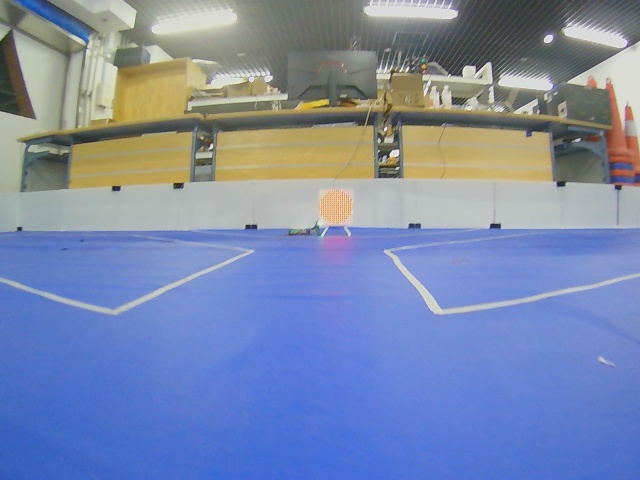red: (319, 188, 354, 226)
